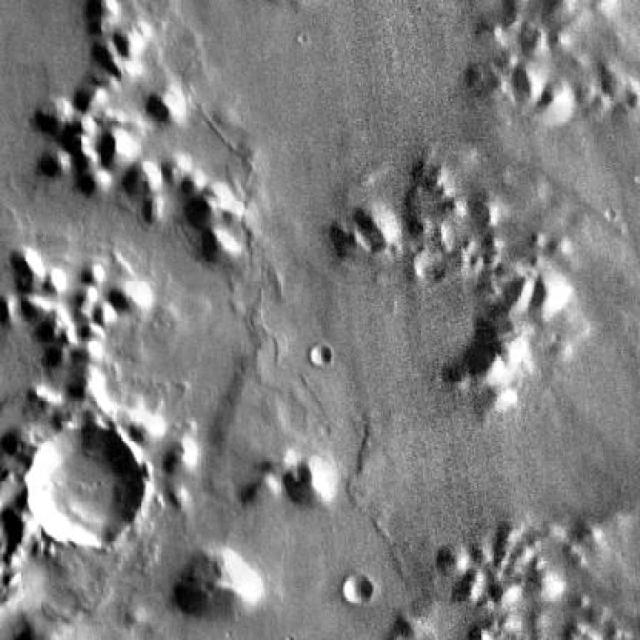crater: (348, 226, 510, 386), (78, 292, 222, 437), (26, 428, 142, 544), (411, 250, 443, 282), (342, 574, 372, 604), (310, 346, 332, 368)
